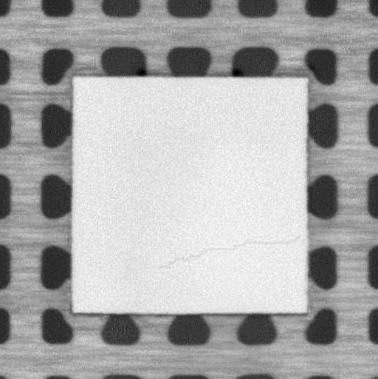DIE_CRACK: (161, 234, 302, 267)
